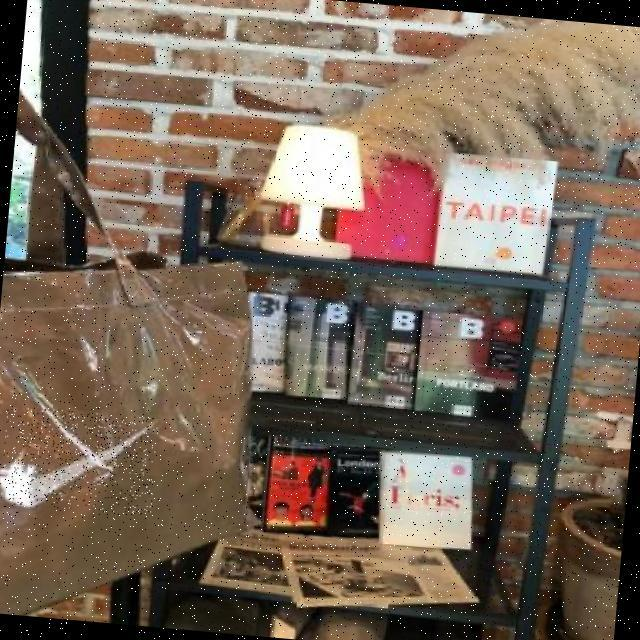Nike: (0, 405, 159, 516)
